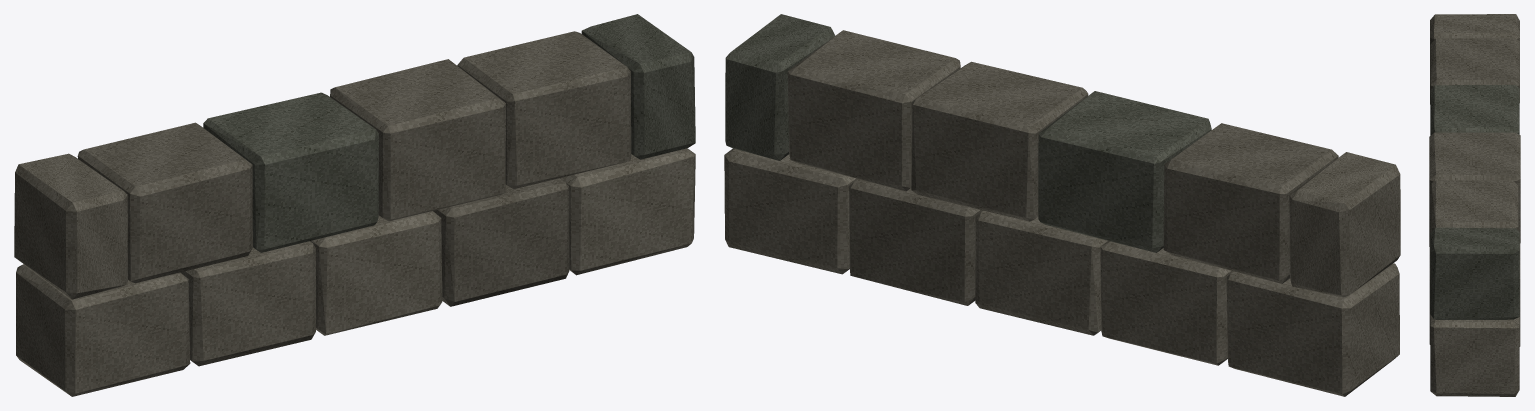
The model's file is env_ruin_walls_01_low_wall.glb.
3 renders of one model, left to right at view 1: azimuth 30°, elevation 25°; view 2: azimuth 150°, elevation 25°; view 3: azimuth 270°, elevation 25°, orthographic. The views are drawn at different scales.
Bounding box in the file's own units: 1.99 × 0.592 × 0.3251.
1 material, 1 textured.
